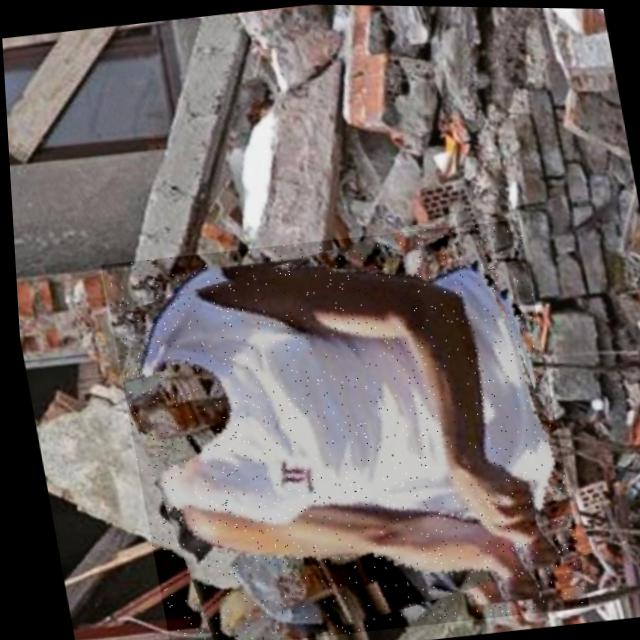Person in Rubble: (95, 211, 583, 640)
